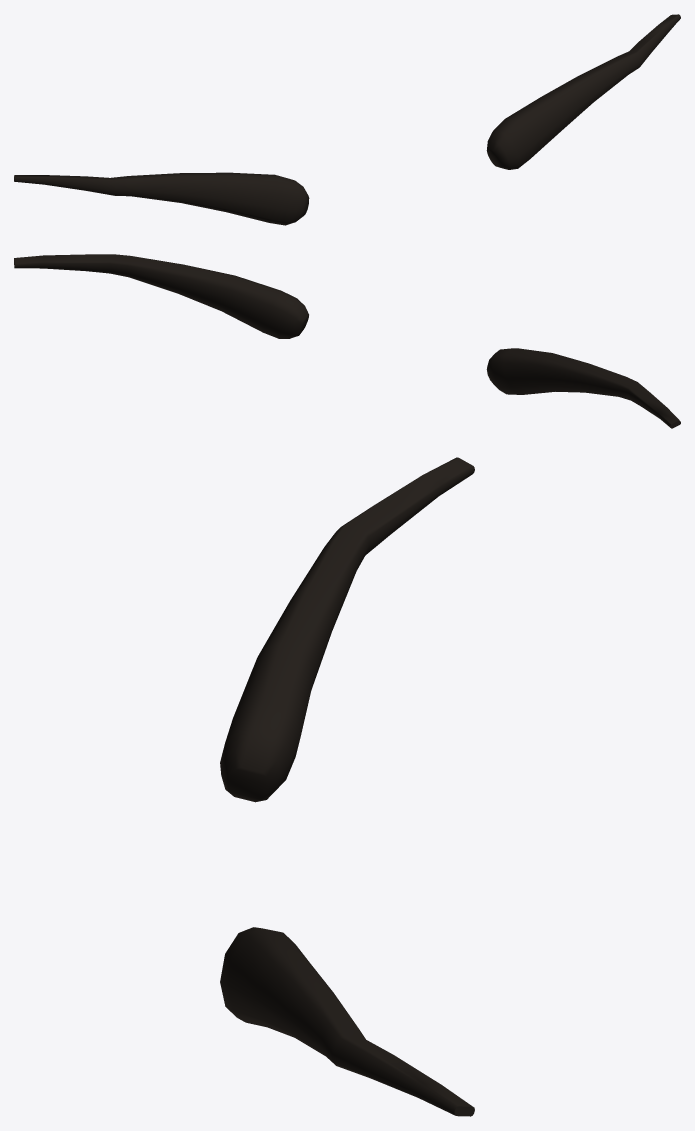
Rendered from Eyebrows_25_01.fbx.
The picture shows the model from 3 angles, top to bottom: view 1: azimuth 30°, elevation 25°; view 2: azimuth 150°, elevation 25°; view 3: azimuth 270°, elevation 25°; orthographic projection. The views are drawn at different scales.
Parts seen in each view (by area): view 1: Eyebrows_25_01; view 2: Eyebrows_25_01; view 3: Eyebrows_25_01.
Part boxes in pixels (x1,y1,x2,y2): Eyebrows_25_01: (14, 14, 680, 225); Eyebrows_25_01: (14, 254, 680, 428); Eyebrows_25_01: (220, 457, 474, 1116).
Size of the model in its own units: 17.7 by 1.64 by 2.93.
